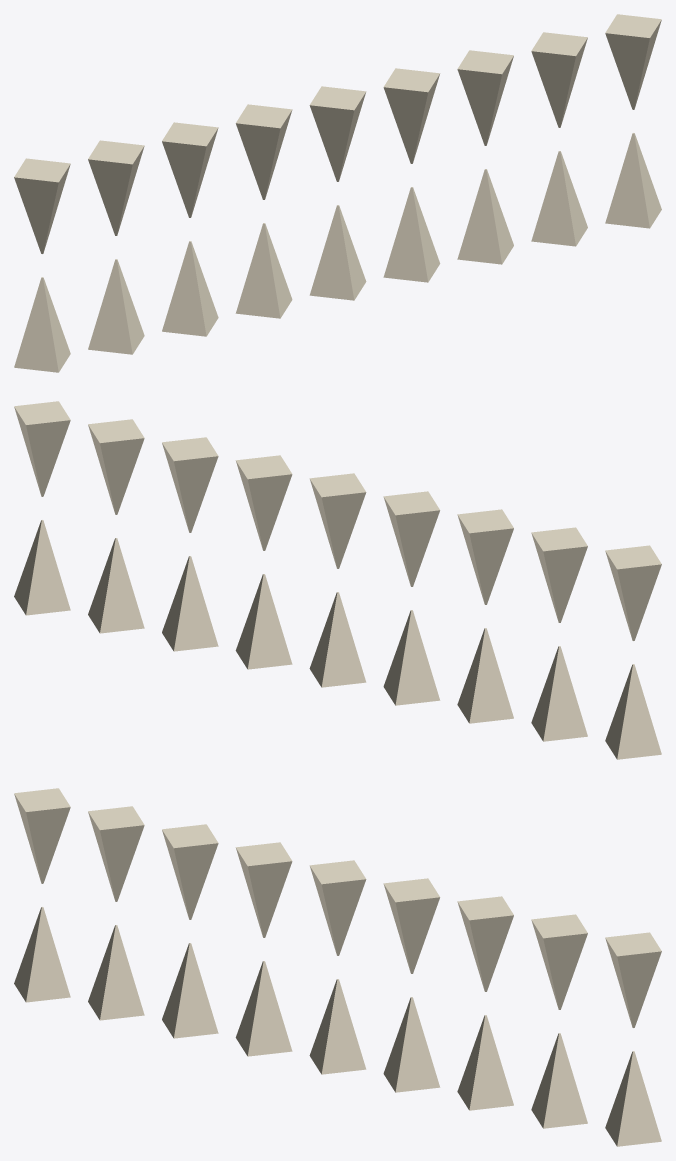
File: ShrineTeeth.fbx
3 renders of one model, top to bottom at view 1: azimuth 30°, elevation 25°; view 2: azimuth 150°, elevation 25°; view 3: azimuth 330°, elevation 25°, orthographic.
Parts seen in each view (by area): view 1: Tooth0_9.001; view 2: Tooth0_9.001; view 3: Tooth0_9.001.
Boxes of the visible parts, x1,y1,x2,y2 form: Tooth0_9.001: (14, 14, 661, 372); Tooth0_9.001: (14, 401, 661, 759); Tooth0_9.001: (14, 788, 661, 1146).
Bounding box in the file's own units: 1140 × 320 × 100.
